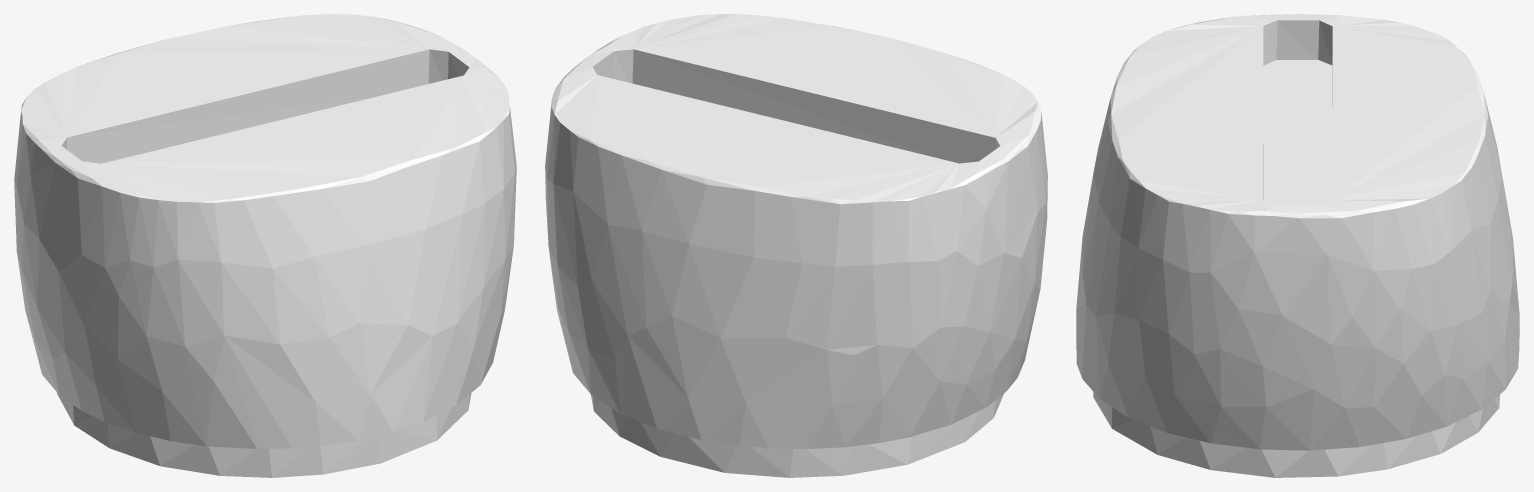
File: hand.dae
3 views of the same model, side by side, from view 1: azimuth 30°, elevation 25°; view 2: azimuth 150°, elevation 25°; view 3: azimuth 270°, elevation 25° (orthographic).
Parts seen in each view (by area): view 1: tmp_export_hand; view 2: tmp_export_hand; view 3: tmp_export_hand.
Boxes of the visible parts, x1,y1,x2,y2 form: tmp_export_hand: (14,14,516,477); tmp_export_hand: (545,14,1047,477); tmp_export_hand: (1076,14,1519,477).
Bounding box in the file's own units: 0.0619 × 0.0558 × 0.0387.
Materials: 1 (1 with a texture image).
